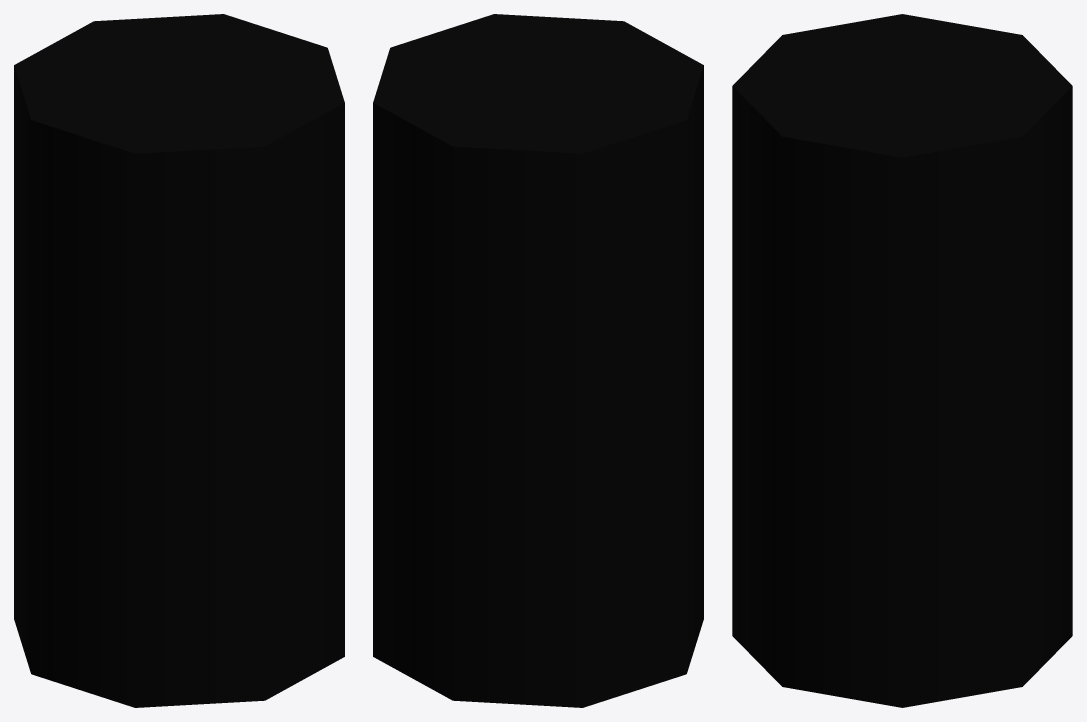
3 renders of one model, left to right at view 1: azimuth 30°, elevation 25°; view 2: azimuth 150°, elevation 25°; view 3: azimuth 270°, elevation 25°, orthographic.
Visible parts, largest first — view 1: Joint_0_Object_0; view 2: Joint_0_Object_0; view 3: Joint_0_Object_0.
Boxes of the visible parts, x1,y1,x2,y2 form: Joint_0_Object_0: [14, 14, 344, 707]; Joint_0_Object_0: [373, 14, 703, 707]; Joint_0_Object_0: [732, 14, 1072, 707].
Size of the model in its own units: 140 by 250 by 140.
1 material, 1 textured.
